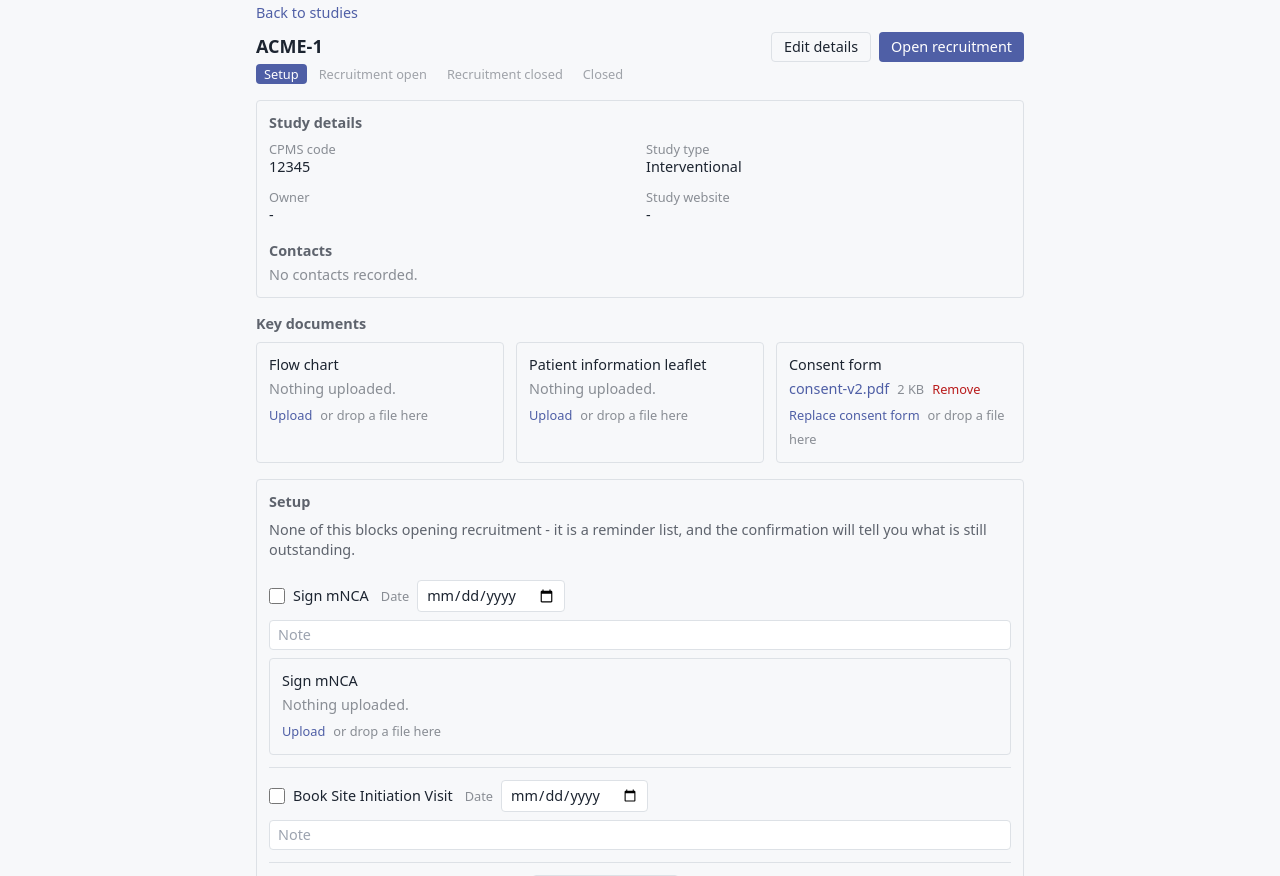
Test: StudyPage stage bodies › swaps the setup checklist for the stub on advancing, keeping the key documents
The image size is (1280, 876).
Check: the date field named "Sign mNCA date" is shown, box [417,580,565,612]
Click the button "Open recruitment" at (952, 47), box [879,32,1024,62]
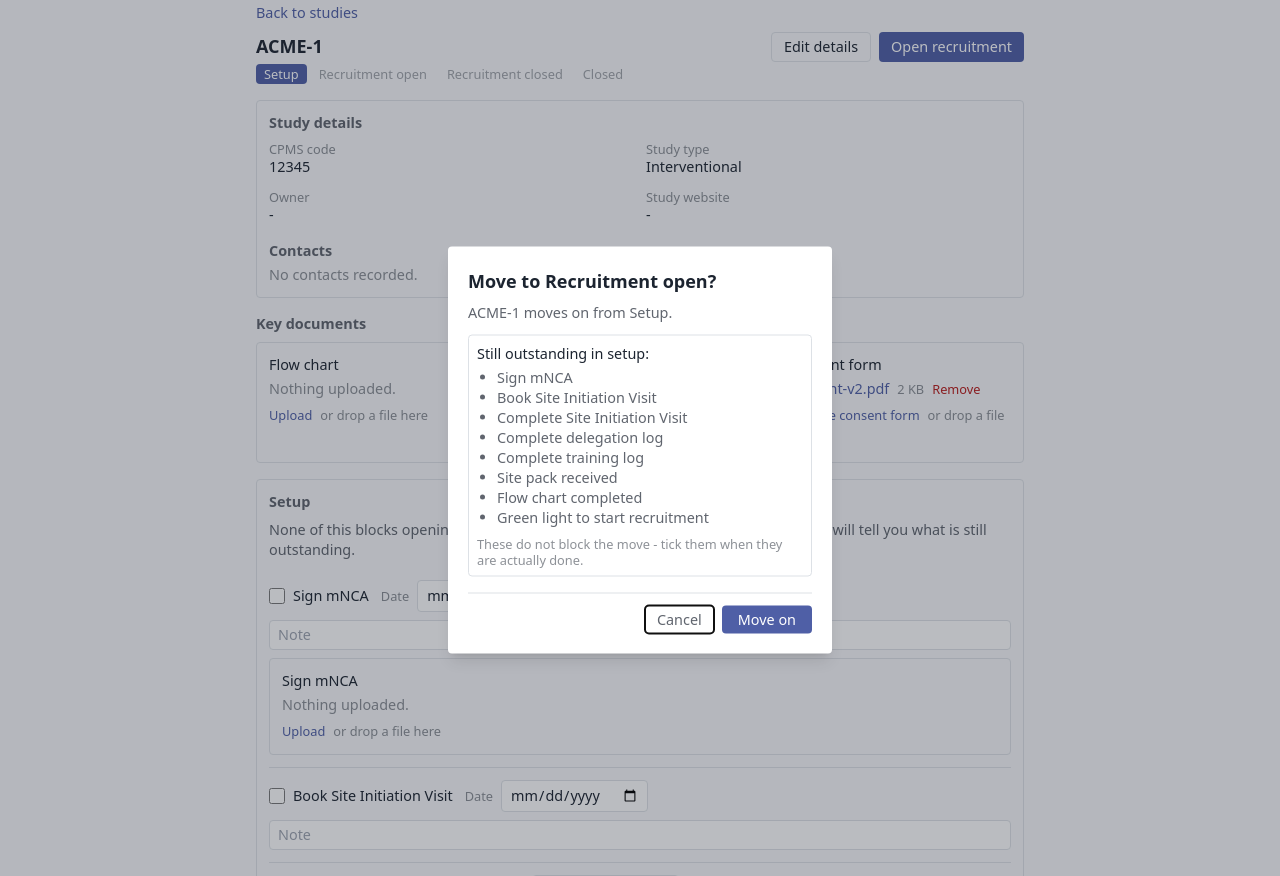
Click the button "Move on" at (767, 620), box [722,606,812,634]
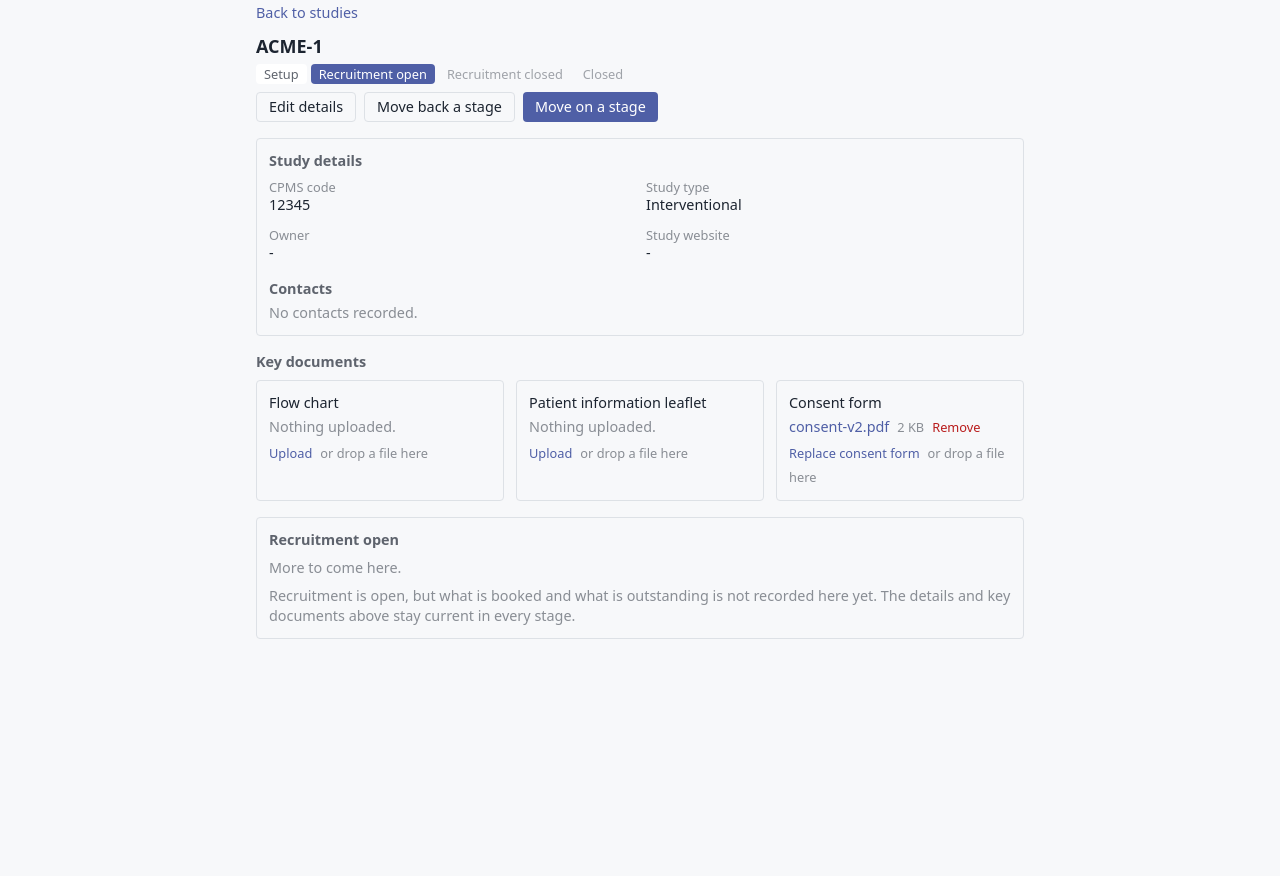
Check: the button "consent-v2.pdf" is shown, box [789,417,889,437]
Check: the text "More to come here." is shown, box [269,558,402,577]
Check: the field labelled "Sign mNCA Date" is gone
